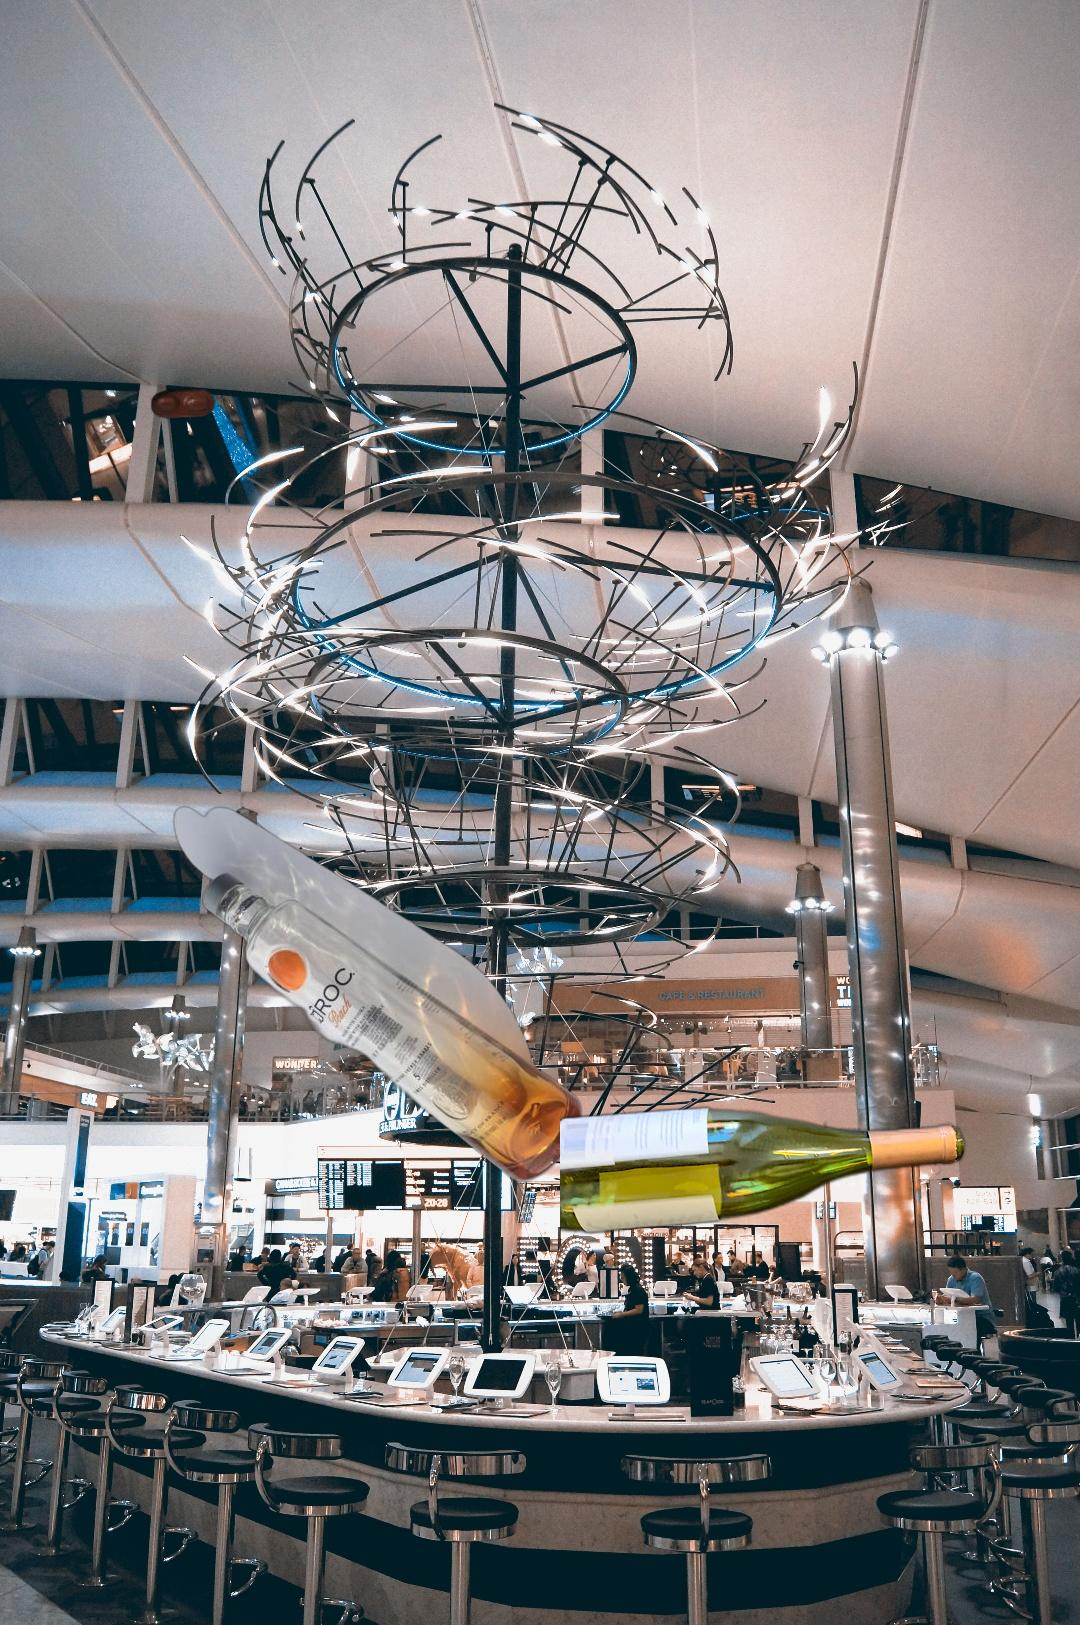glass: (169, 804, 586, 1183), (560, 1101, 970, 1240)
trash: (148, 386, 218, 422)
trashbox-cardboard: (981, 248, 1080, 832)
